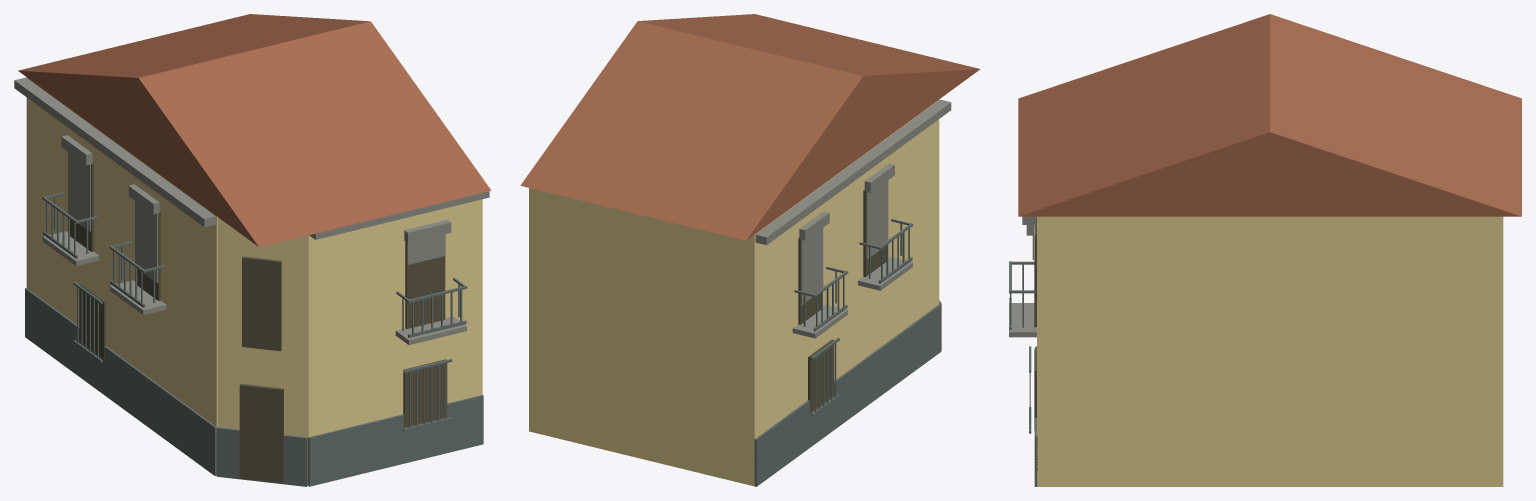
The model's file is SM_Esquina_v3_CalAmarilla_LOD0.fbx.
3 renders of one model, left to right at view 1: azimuth 30°, elevation 25°; view 2: azimuth 150°, elevation 25°; view 3: azimuth 270°, elevation 25°, orthographic. The views are drawn at different scales.
Parts seen in each view (by area): view 1: SM_pueblo_valenciano_v3_LOD0; view 2: SM_pueblo_valenciano_v3_LOD0; view 3: SM_pueblo_valenciano_v3_LOD0.
Boxes of the visible parts, <box> form: SM_pueblo_valenciano_v3_LOD0: <box>14,14,491,486</box>; SM_pueblo_valenciano_v3_LOD0: <box>520,14,980,486</box>; SM_pueblo_valenciano_v3_LOD0: <box>1009,14,1521,486</box>.
Bounding box in the file's own units: 6.6 × 8.4 × 11.
